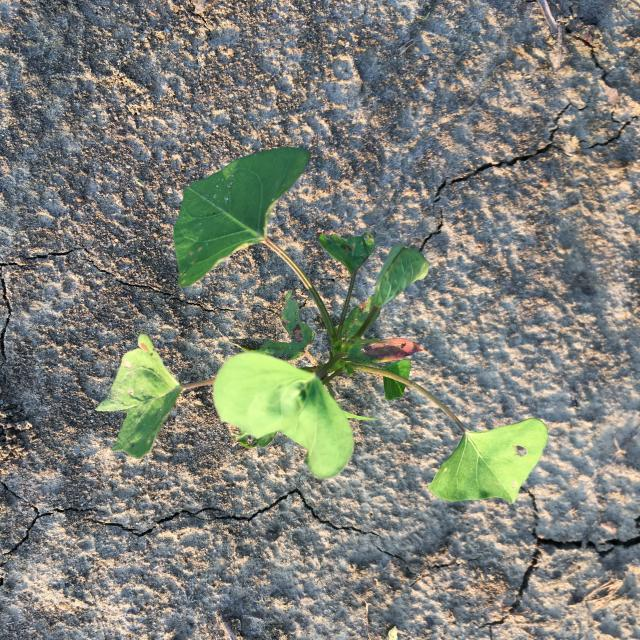MorningGlory: (93, 146, 550, 505)
